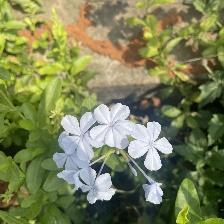chitrak: (128, 119, 174, 171), (93, 101, 135, 151), (76, 164, 117, 204), (63, 114, 97, 157)
